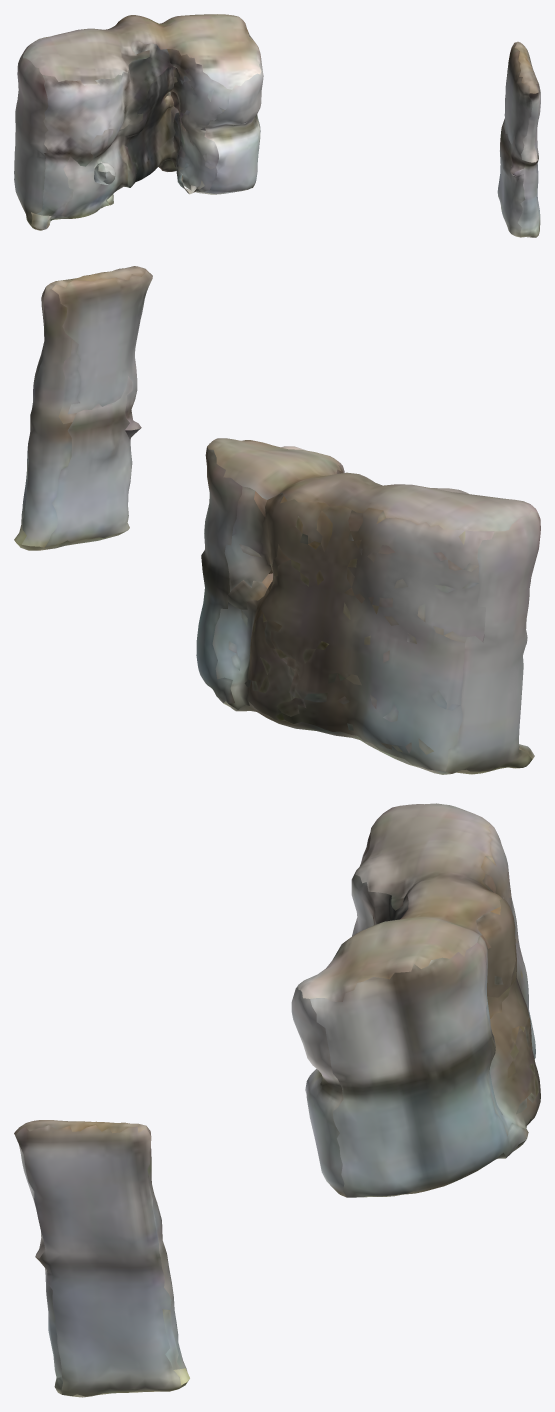
File: 28_curtain.glb
3 views of the same model, one above another, from view 1: azimuth 30°, elevation 25°; view 2: azimuth 150°, elevation 25°; view 3: azimuth 270°, elevation 25° (orthographic). The views are drawn at different scales.
Parts seen in each view (by area): view 1: 28_curtain; view 2: 28_curtain; view 3: 28_curtain.
Part boxes in pixels (left/top/right/bottom): 28_curtain: left=14, top=14, right=540, bottom=237; 28_curtain: left=14, top=266, right=540, bottom=774; 28_curtain: left=14, top=803, right=540, bottom=1397.
Bounding box in the file's own units: 4.73 × 2.11 × 3.3.
Materials: 1 (1 with a texture image).
